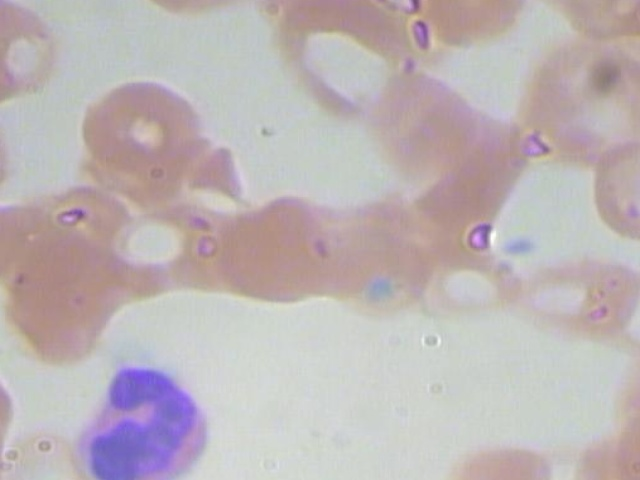RBC: (69, 64, 210, 180), (0, 238, 117, 369), (214, 191, 345, 304), (356, 70, 486, 182), (517, 235, 640, 347), (413, 236, 526, 327), (570, 130, 640, 243), (0, 0, 59, 107), (448, 433, 561, 480), (0, 100, 38, 212), (0, 341, 19, 451)
WBC: (65, 357, 238, 480)
